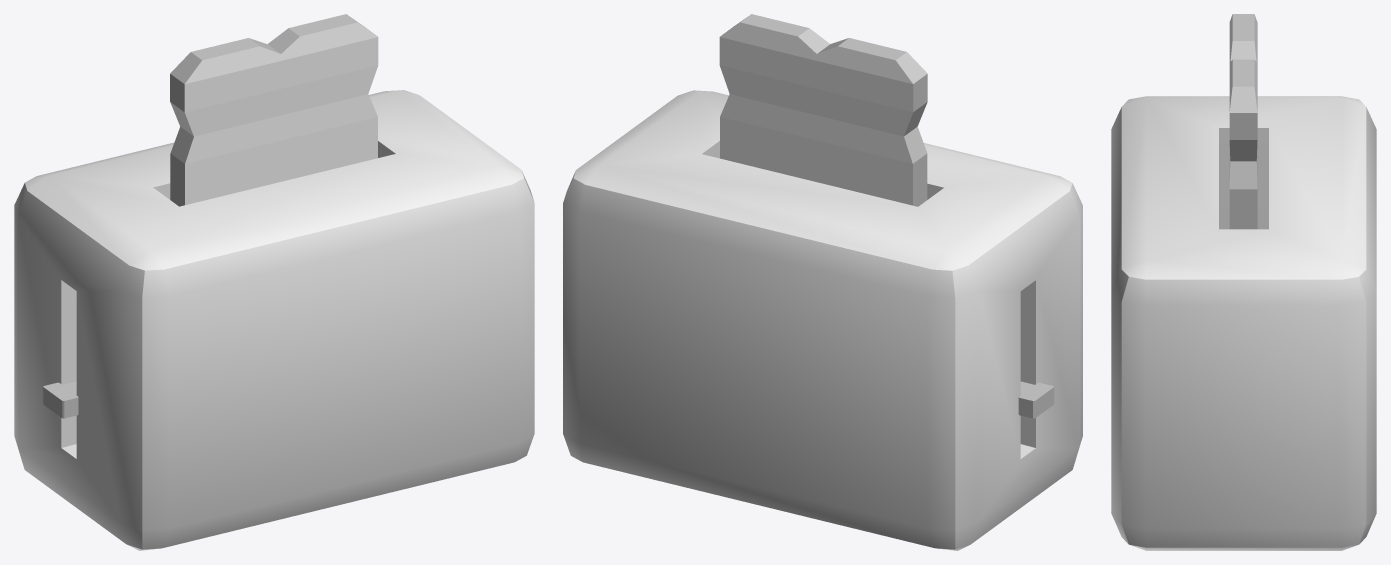
The model's file is Torradeira + Tosta.FBX.
3 views of the same model, side by side, from view 1: azimuth 30°, elevation 25°; view 2: azimuth 150°, elevation 25°; view 3: azimuth 270°, elevation 25° (orthographic). The views are drawn at different scales.
Parts seen in each view (by area): view 1: Toaster, Toast; view 2: Toaster, Toast; view 3: Toaster, Toast.
Part boxes in pixels (bbox=[...]): Toaster: bbox=[14, 90, 534, 550]; Toast: bbox=[170, 14, 378, 206]; Toaster: bbox=[563, 90, 1082, 550]; Toast: bbox=[719, 14, 927, 206]; Toaster: bbox=[1111, 96, 1376, 550]; Toast: bbox=[1229, 14, 1257, 229].
Bounding box in the file's own units: 180 × 173 × 101.
